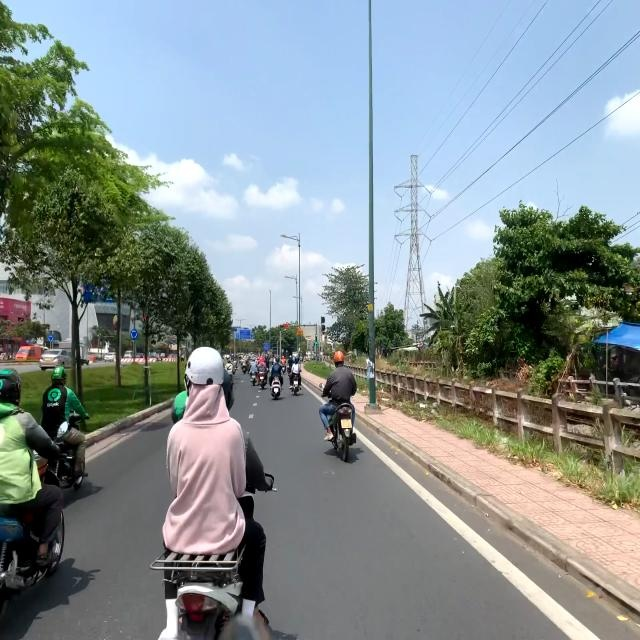bien_cam: (130, 329, 138, 339), (48, 334, 54, 342)
